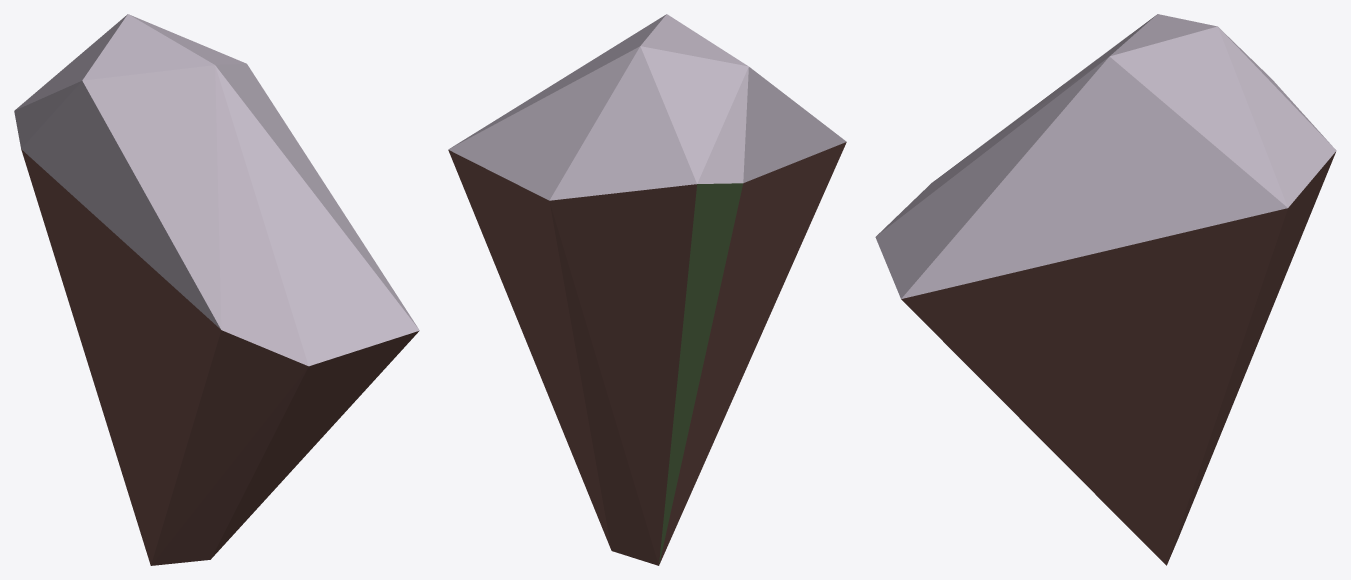
File: CommonTree_Snow_2.lod4.glb
3 views of the same model, side by side, from view 1: azimuth 30°, elevation 25°; view 2: azimuth 150°, elevation 25°; view 3: azimuth 270°, elevation 25° (orthographic). The views are drawn at different scales.
Parts seen in each view (by area): view 1: CommonTree_Snow_2; view 2: CommonTree_Snow_2; view 3: CommonTree_Snow_2.
Boxes of the visible parts, x1,y1,x2,y2 form: CommonTree_Snow_2: (14, 14, 419, 565); CommonTree_Snow_2: (448, 14, 846, 565); CommonTree_Snow_2: (875, 14, 1336, 565).
Bounding box in the file's own units: 1.62 × 3.2 × 2.6.
